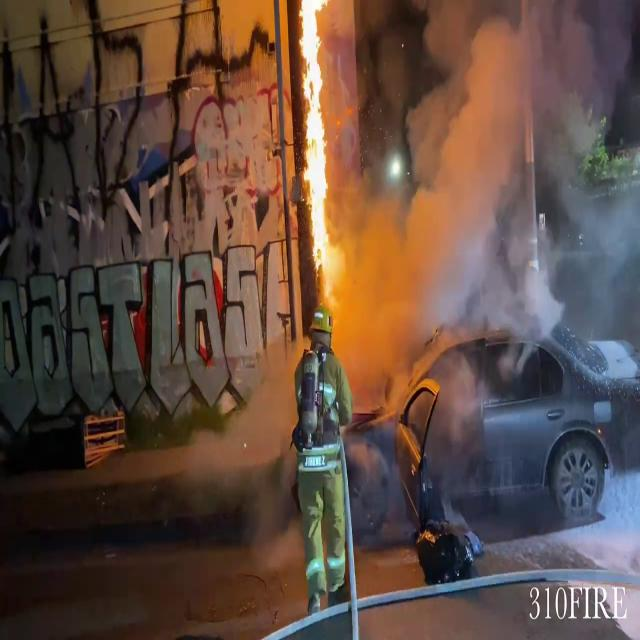Fire: (295, 1, 337, 280)
Smoke: (299, 0, 640, 366)
